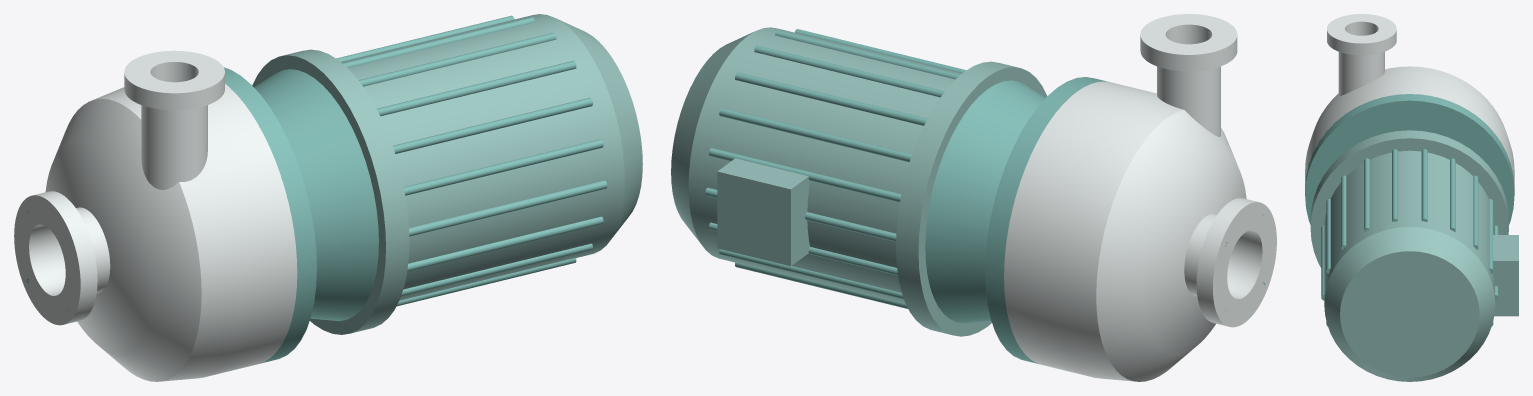
3 renders of one model, left to right at view 1: azimuth 30°, elevation 25°; view 2: azimuth 150°, elevation 25°; view 3: azimuth 270°, elevation 25°, orthographic. The views are drawn at different scales.
Parts seen in each view (by area): view 1: 泵体_圆弧壳与轴向进液口, 电机_带筋机壳, 连接座_短连接段, 电机_连接法兰, 连接座_泵壳连接环, 接口_朝上出液法兰, 接口_偏置竖向出液管, 电机_圆弧尾罩, 电机_散热筋09, 电机_散热筋08, 电机_散热筋10, 电机_散热筋07 (+6 smaller); view 2: 泵体_圆弧壳与轴向进液口, 电机_带筋机壳, 连接座_短连接段, 电机_连接法兰, 电机_接线盒, 连接座_泵壳连接环, 接口_朝上出液法兰, 电机_圆弧尾罩, 接口_偏置竖向出液管, 电机_散热筋03, 电机_散热筋04, 电机_散热筋05 (+7 smaller); view 3: 电机_圆弧尾罩, 电机_带筋机壳, 连接座_泵壳连接环, 电机_连接法兰, 泵体_圆弧壳与轴向进液口, 接口_朝上出液法兰, 电机_接线盒, 接口_偏置竖向出液管, 电机_散热筋05, 电机_散热筋03, 电机_散热筋04, 电机_散热筋06 (+5 smaller).
Part boxes in pixels (x1,y1,x2,y2): 泵体_圆弧壳与轴向进液口: (14,84,297,381); 电机_带筋机壳: (341,14,624,300); 连接座_短连接段: (254,69,378,320); 电机_连接法兰: (252,49,409,334); 连接座_泵壳连接环: (224,67,316,363); 接口_朝上出液法兰: (124,50,224,110); 接口_偏置竖向出液管: (141,79,207,189); 电机_圆弧尾罩: (556,18,642,239); 电机_散热筋09: (404,139,603,195); 电机_散热筋08: (392,97,592,153); 电机_散热筋10: (409,180,607,236); 电机_散热筋07: (377,60,576,116); 泵体_圆弧壳与轴向进液口: (1004,81,1276,381); 电机_带筋机壳: (688,27,961,303); 连接座_短连接段: (925,80,1045,323); 电机_连接法兰: (896,61,1047,336); 电机_接线盒: (717,158,809,266); 连接座_泵壳连接环: (985,77,1108,364); 接口_朝上出液法兰: (1140,14,1237,71); 电机_圆弧尾罩: (671,31,754,245); 接口_偏置竖向出液管: (1157,41,1220,137); 电机_散热筋03: (719,108,911,162); 电机_散热筋04: (735,72,927,125); 电机_散热筋05: (754,45,944,97); 电机_圆弧尾罩: (1324,227,1495,381); 电机_带筋机壳: (1324,150,1495,301); 连接座_泵壳连接环: (1305,94,1514,224); 电机_连接法兰: (1310,130,1508,267); 泵体_圆弧壳与轴向进液口: (1305,66,1514,187); 接口_朝上出液法兰: (1327,14,1396,55); 电机_接线盒: (1493,235,1518,316); 接口_偏置竖向出液管: (1338,33,1384,95); 电机_散热筋05: (1421,149,1427,221); 电机_散热筋03: (1473,175,1478,249); 电机_散热筋04: (1450,158,1455,231); 电机_散热筋06: (1392,149,1397,221).
Size of the model in its own units: 0.417 by 0.2396 by 0.2042.
